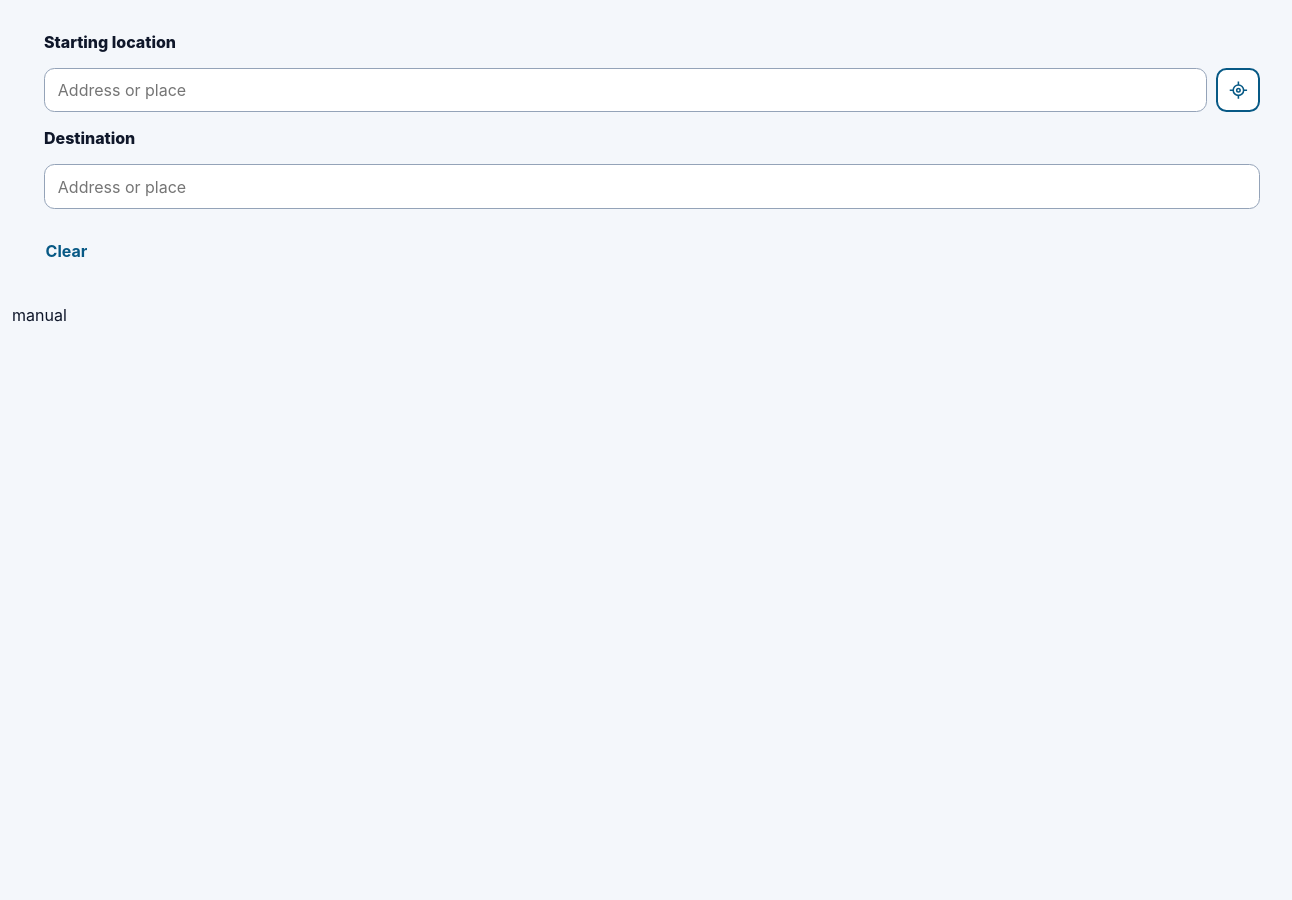
TripPlanner › resolves coordinate searches and offers full-trip navigation
Type "43.07310, -89.40120" into the dropdown labelled "Starting location" at point(626, 90), box x1=44 y1=68 x2=1207 y2=112
Then press Enter
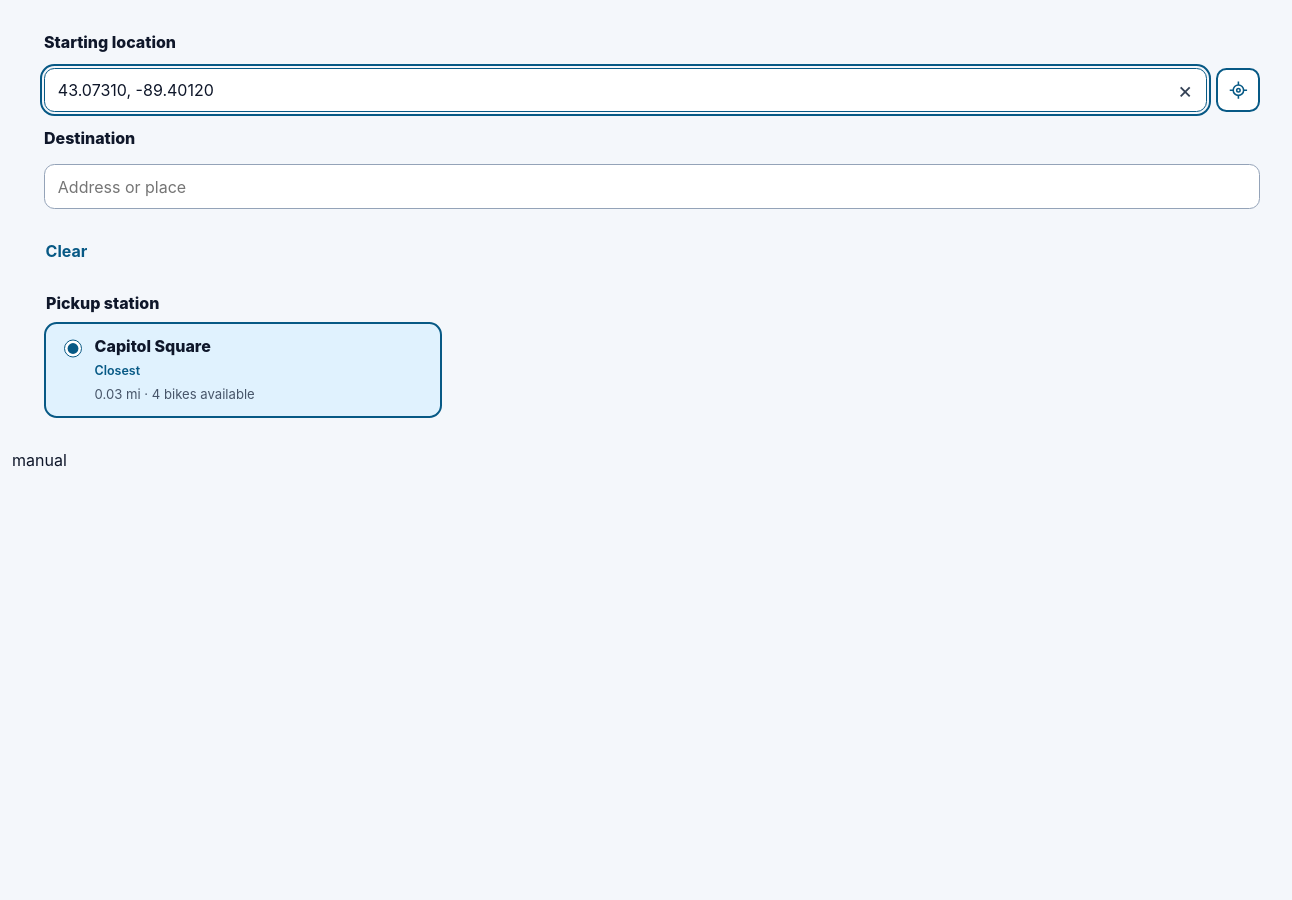
Type "43.07520, -89.39820" into the dropdown labelled "Destination" at point(652, 186), box x1=44 y1=164 x2=1260 y2=209
Then press Enter
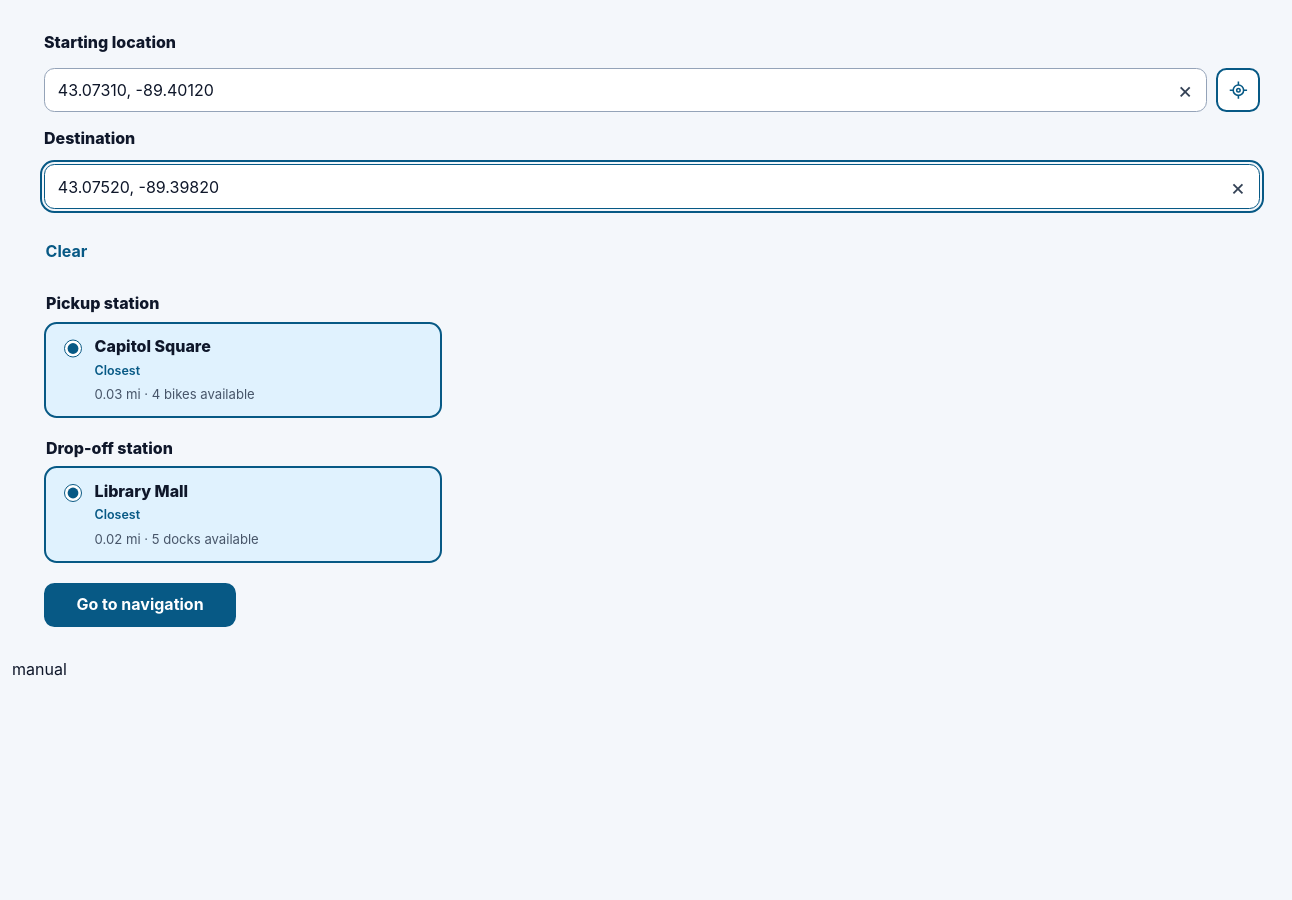
Result: the element "Pickup station" is shown at x1=44 y1=293 x2=442 y2=418
Result: the element "Drop-off station" is shown at x1=44 y1=438 x2=442 y2=563
Result: the button "Go to navigation" is shown at x1=44 y1=583 x2=236 y2=627
